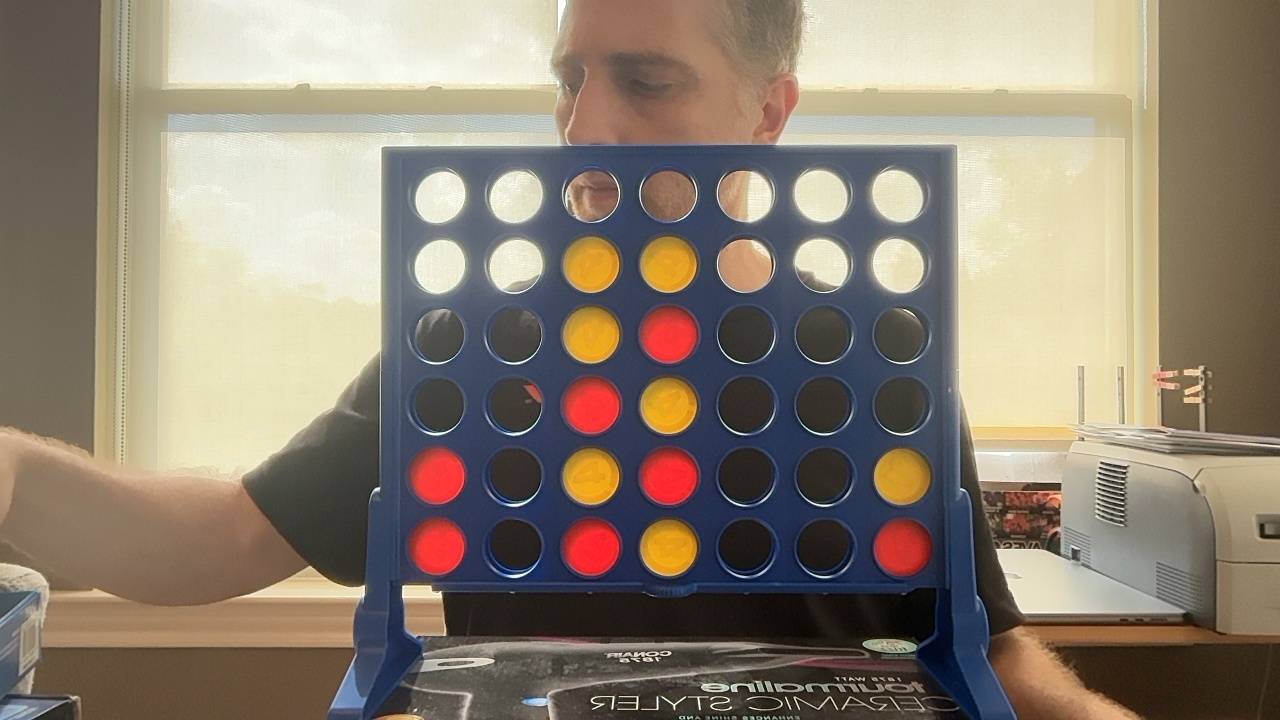red piece: (562, 376, 621, 435), (639, 305, 698, 363), (639, 447, 698, 505), (562, 518, 620, 577), (874, 518, 932, 576), (408, 517, 465, 575), (409, 447, 465, 504)
yellow piece: (640, 519, 698, 577), (562, 447, 620, 505), (639, 377, 698, 434), (562, 306, 620, 363), (874, 447, 931, 505), (640, 235, 697, 292), (563, 236, 620, 292)
